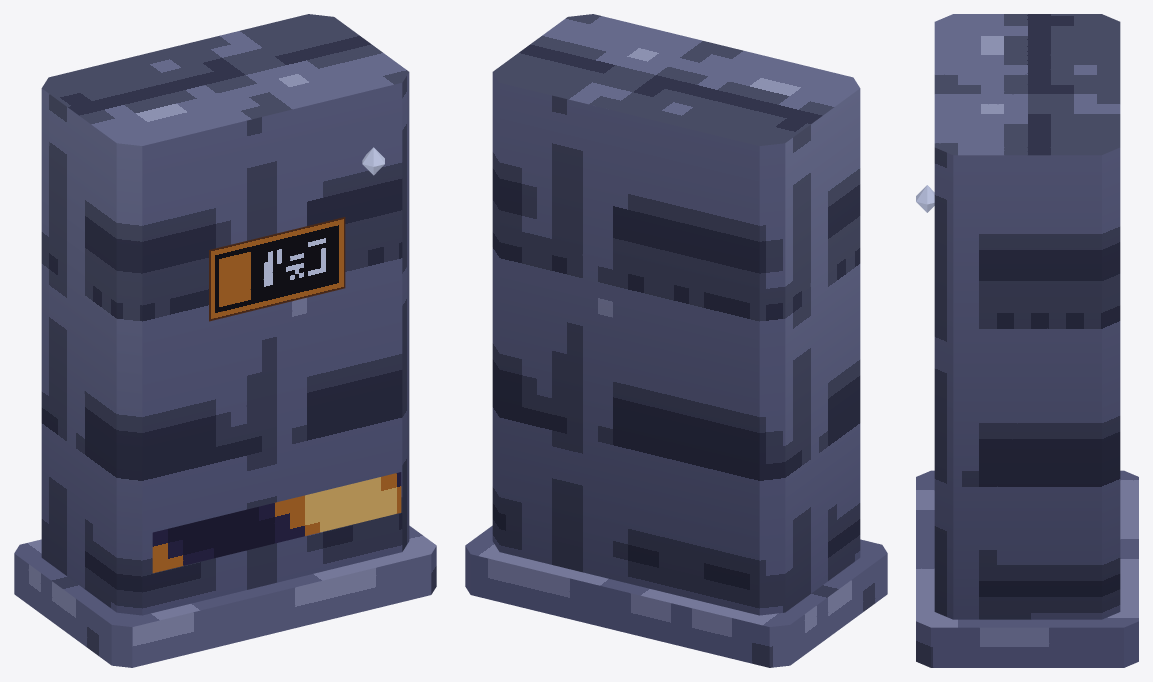
Rendered from cytech.utility.glb.
The picture shows the model from 3 angles, left to right: view 1: azimuth 30°, elevation 25°; view 2: azimuth 150°, elevation 25°; view 3: azimuth 270°, elevation 25°; orthographic projection.
Parts seen in each view (by area): view 1: kit_box, kit_card_plates; view 2: kit_box; view 3: kit_box.
Boxes of the visible parts, x1=… form: kit_box: x1=14, y1=14, x2=436, y2=667; kit_card_plates: x1=152, y1=217, x2=401, y2=573; kit_box: x1=465, y1=14, x2=887, y2=667; kit_box: x1=916, y1=14, x2=1138, y2=667.
Bounding box in the file's own units: 1 × 1.5 × 0.6003.
6 materials, 6 textured.
